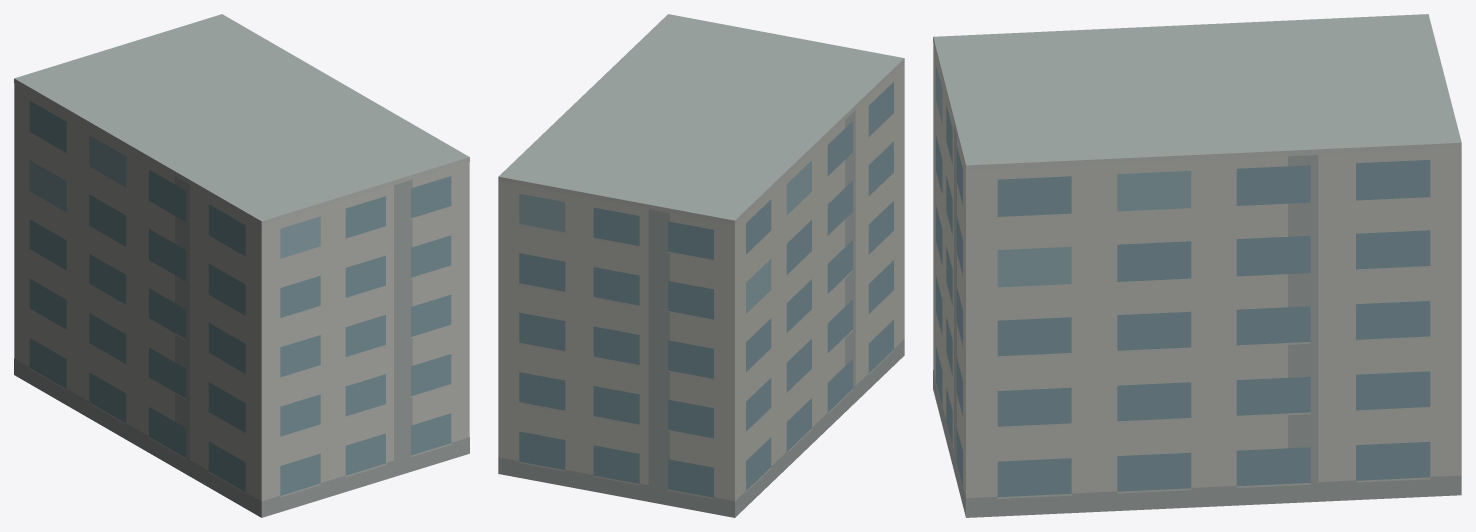
File: residential-d96f05d5-c025-487f-837d-71e028728bfe.glb
The picture shows the model from 3 angles, left to right: view 1: azimuth 30°, elevation 25°; view 2: azimuth 150°, elevation 25°; view 3: azimuth 270°, elevation 25°; orthographic projection. The views are drawn at different scales.
Visible parts, largest first — view 1: residential-d96f05d5-c025-487f-837d-71e028728bfe.tmp; view 2: residential-d96f05d5-c025-487f-837d-71e028728bfe.tmp; view 3: residential-d96f05d5-c025-487f-837d-71e028728bfe.tmp.
Boxes of the visible parts, x1,y1,x2,y2 form: residential-d96f05d5-c025-487f-837d-71e028728bfe.tmp: (14, 14, 469, 517); residential-d96f05d5-c025-487f-837d-71e028728bfe.tmp: (498, 14, 904, 517); residential-d96f05d5-c025-487f-837d-71e028728bfe.tmp: (933, 14, 1461, 517).
Size of the model in its own units: 14.06 by 15.25 by 20.74.
